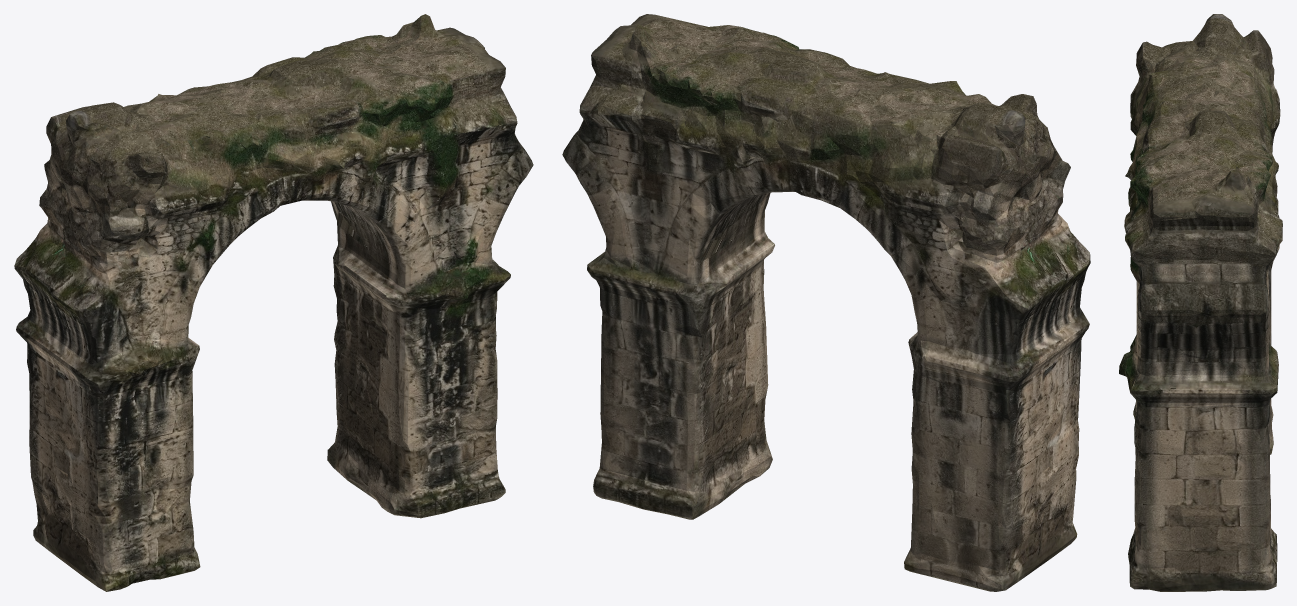
The model's file is aqueduct_ruin.glb.
3 renders of one model, left to right at view 1: azimuth 30°, elevation 25°; view 2: azimuth 150°, elevation 25°; view 3: azimuth 270°, elevation 25°, orthographic. The views are drawn at different scales.
Parts seen in each view (by area): view 1: lo; view 2: lo; view 3: lo.
Part boxes in pixels (x1=…): lo: x1=14, y1=14, x2=533, y2=591; lo: x1=562, y1=14, x2=1090, y2=591; lo: x1=1119, y1=14, x2=1282, y2=591.
Size of the model in its own units: 5.69 by 5.38 by 1.94.
Materials: 1 (1 with a texture image).
